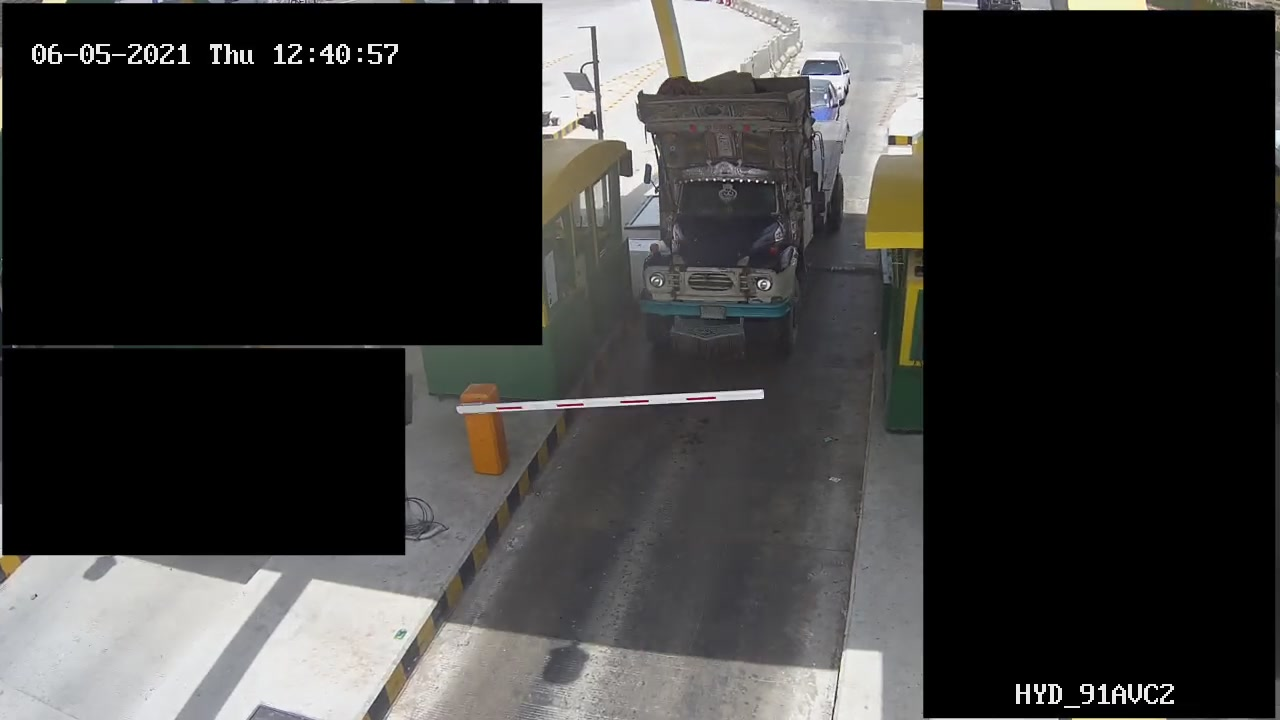F5: (624, 76, 849, 358)
